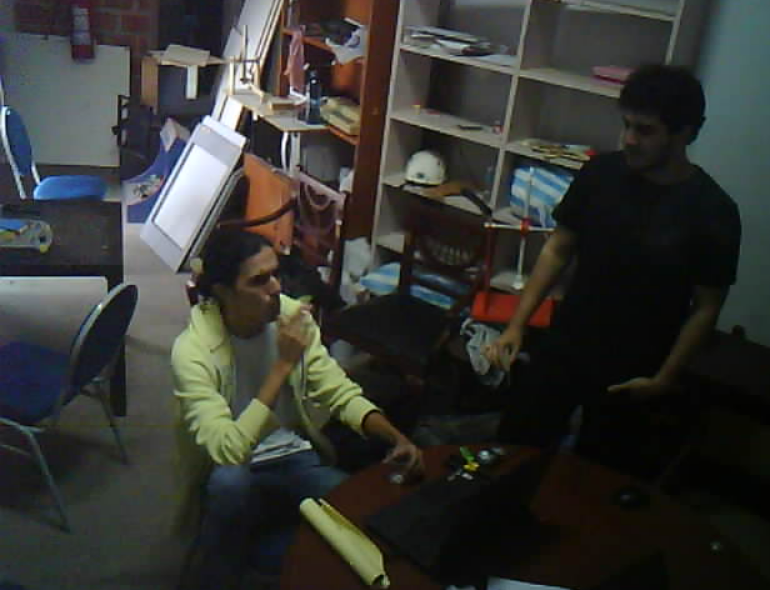person: (464, 43, 753, 474), (132, 214, 428, 590)
